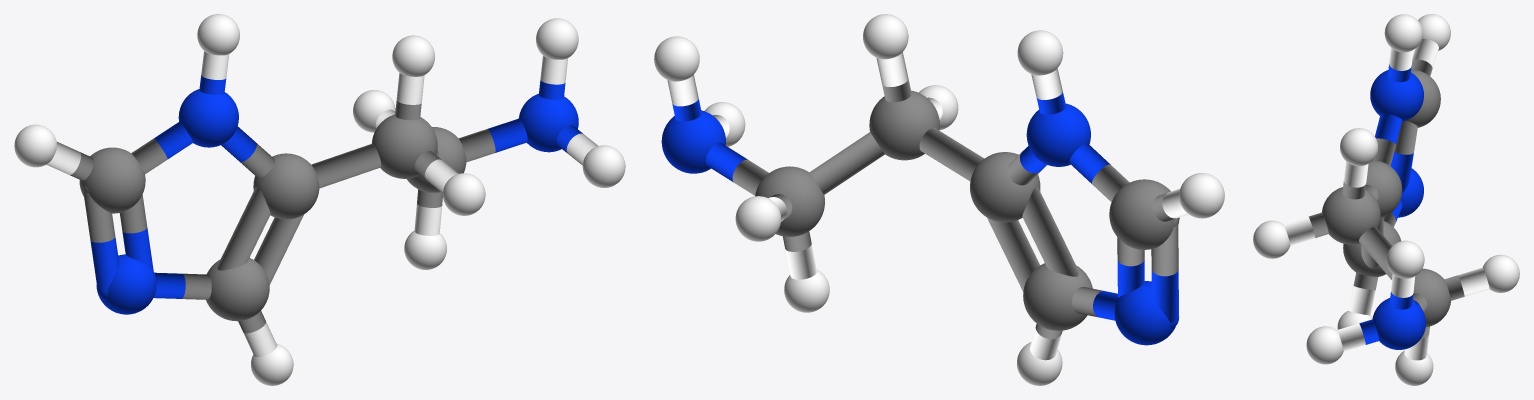
The model's file is histamine.glb.
3 views of the same model, side by side, from view 1: azimuth 30°, elevation 25°; view 2: azimuth 150°, elevation 25°; view 3: azimuth 270°, elevation 25° (orthographic). The views are drawn at different scales.
Parts seen in each view (by area): view 1: histamine; view 2: histamine; view 3: histamine.
Part boxes in pixels (x1=…): histamine: x1=14, y1=14, x2=625, y2=385; histamine: x1=654, y1=14, x2=1224, y2=385; histamine: x1=1253, y1=14, x2=1519, y2=385.
Size of the model in its own units: 7.45 by 4.63 by 3.53.
